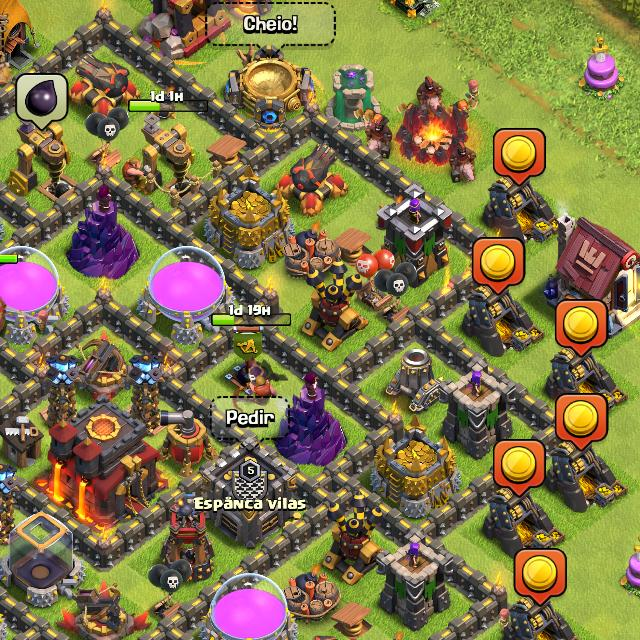ElixirNegro: (17, 74, 66, 128)
FullCoin: (492, 129, 548, 186), (513, 548, 565, 606), (473, 238, 525, 295), (496, 440, 544, 497), (558, 394, 607, 448), (558, 302, 608, 353)
